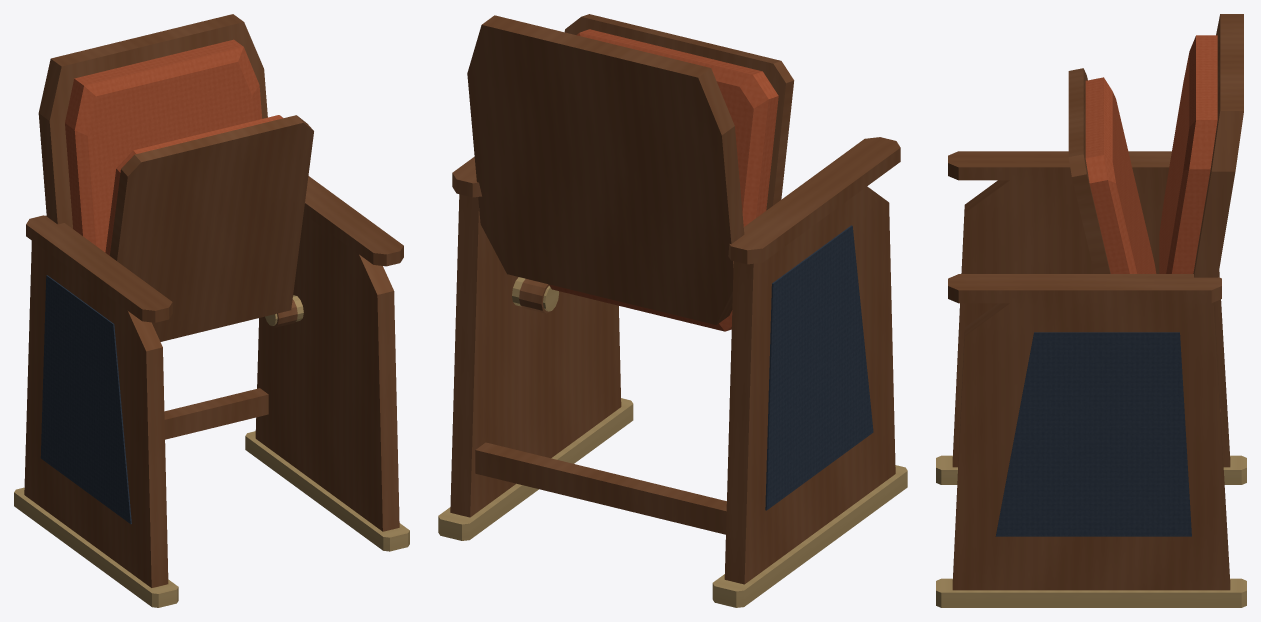
The model's file is AST-CUL-003_folded.glb.
3 views of the same model, side by side, from view 1: azimuth 30°, elevation 25°; view 2: azimuth 150°, elevation 25°; view 3: azimuth 270°, elevation 25° (orthographic). The views are drawn at different scales.
Visible parts, largest first — view 1: AST-CUL-003__static__warm_walnut, AST-CUL-003__PAN_HINGE_X__warm_walnut, AST-CUL-003__static__auditorium_amber_velvet, AST-CUL-003__static__auditorium_navy_fibre, AST-CUL-003__static__champagne_metal, AST-CUL-003__PAN_HINGE_X__auditorium_amber_velvet; view 2: AST-CUL-003__static__warm_walnut, AST-CUL-003__static__auditorium_navy_fibre, AST-CUL-003__static__champagne_metal, AST-CUL-003__PAN_HINGE_X__auditorium_amber_velvet, AST-CUL-003__PAN_HINGE_X__warm_walnut; view 3: AST-CUL-003__static__warm_walnut, AST-CUL-003__static__auditorium_navy_fibre, AST-CUL-003__static__auditorium_amber_velvet, AST-CUL-003__PAN_HINGE_X__auditorium_amber_velvet, AST-CUL-003__static__champagne_metal, AST-CUL-003__PAN_HINGE_X__warm_walnut.
Boxes of the visible parts, x1,y1,x2,y2 form: AST-CUL-003__static__warm_walnut: (24, 14, 403, 587); AST-CUL-003__PAN_HINGE_X__warm_walnut: (110, 115, 313, 341); AST-CUL-003__static__auditorium_amber_velvet: (65, 39, 262, 252); AST-CUL-003__static__auditorium_navy_fibre: (40, 275, 131, 523); AST-CUL-003__static__champagne_metal: (14, 295, 409, 607); AST-CUL-003__PAN_HINGE_X__auditorium_amber_velvet: (105, 115, 283, 255); AST-CUL-003__static__warm_walnut: (450, 15, 900, 584); AST-CUL-003__static__auditorium_navy_fibre: (765, 225, 873, 510); AST-CUL-003__static__champagne_metal: (438, 277, 907, 607); AST-CUL-003__PAN_HINGE_X__auditorium_amber_velvet: (549, 29, 778, 331); AST-CUL-003__PAN_HINGE_X__warm_walnut: (519, 14, 794, 313); AST-CUL-003__static__warm_walnut: (948, 14, 1243, 590); AST-CUL-003__static__auditorium_navy_fibre: (995, 332, 1191, 536); AST-CUL-003__static__auditorium_amber_velvet: (1159, 35, 1217, 273); AST-CUL-003__PAN_HINGE_X__auditorium_amber_velvet: (1085, 77, 1156, 273); AST-CUL-003__static__champagne_metal: (936, 455, 1246, 607); AST-CUL-003__PAN_HINGE_X__warm_walnut: (1068, 68, 1110, 273).
Size of the model in its own units: 0.688 by 1.1 by 0.65.
Materials: 4 (4 with a texture image).
